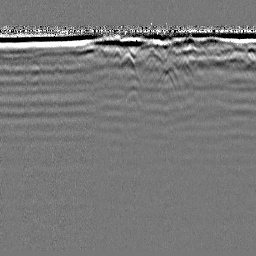cavity: (120, 50, 135, 66)
